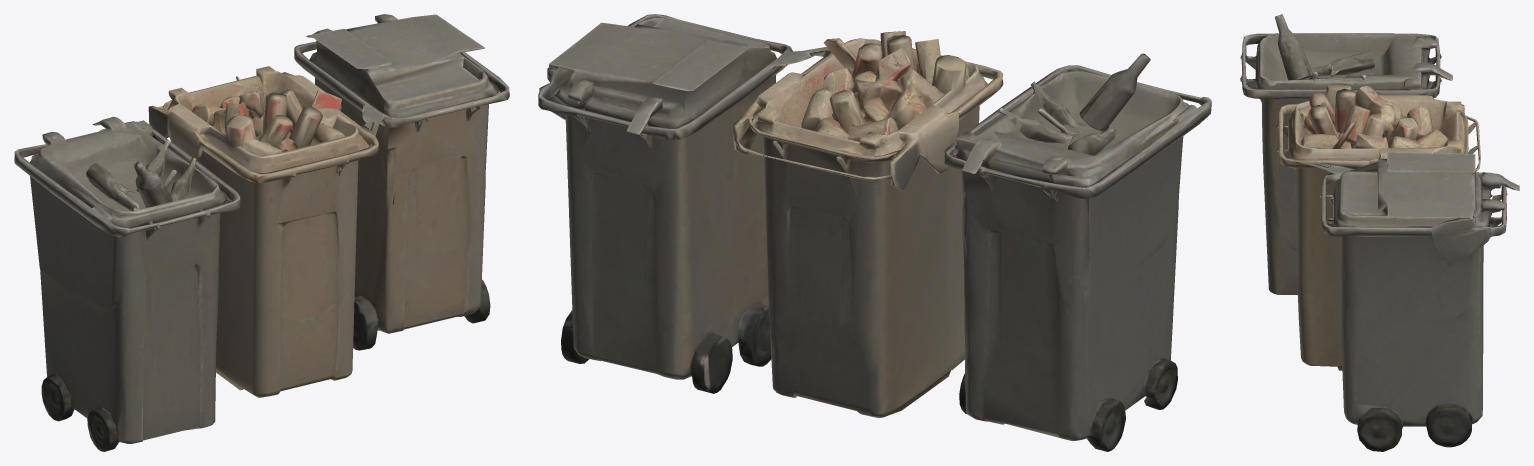
The model's file is becoRecycling.glb.
3 views of the same model, side by side, from view 1: azimuth 30°, elevation 25°; view 2: azimuth 150°, elevation 25°; view 3: azimuth 270°, elevation 25° (orthographic). The views are drawn at different scales.
Bounding box in the file's own units: 1.9 × 1.18 × 1.13.
1 material, 1 textured.
